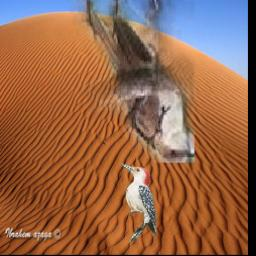Cuckoo: (68, 0, 195, 164)
Woodpecker: (120, 164, 157, 244)
